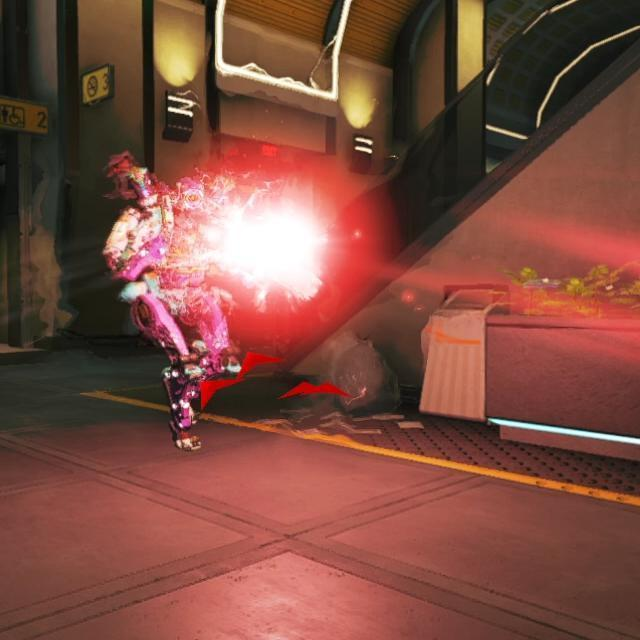avatar: (101, 170, 242, 454)
